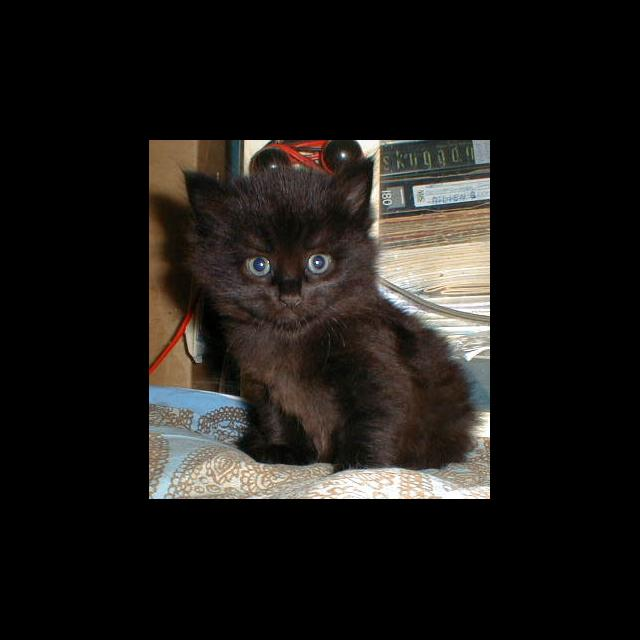animals: (186, 160, 372, 308)
